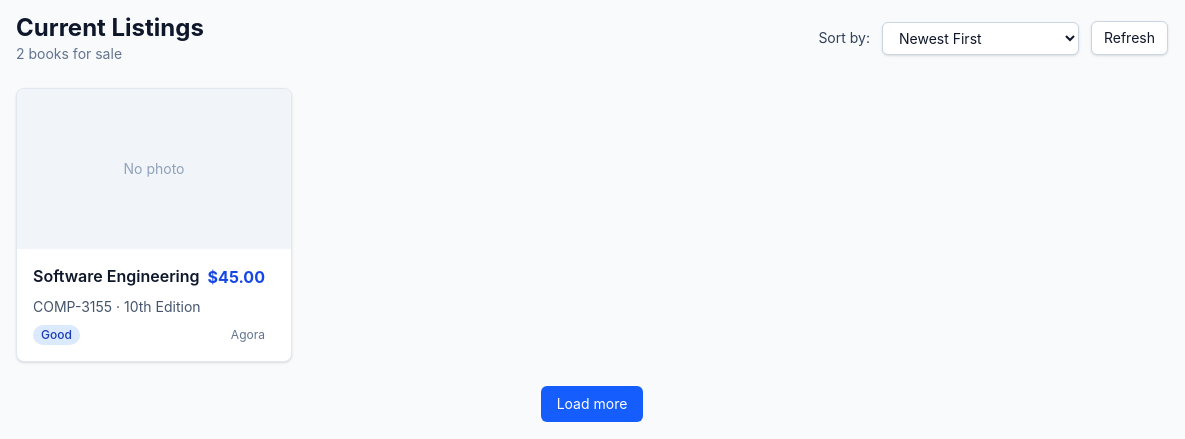
Test case: ListingsView Component › loads the next page when 'Load more' is clicked
Click the button "Load more" at (592, 404), box left=541, top=386, right=643, bottom=422
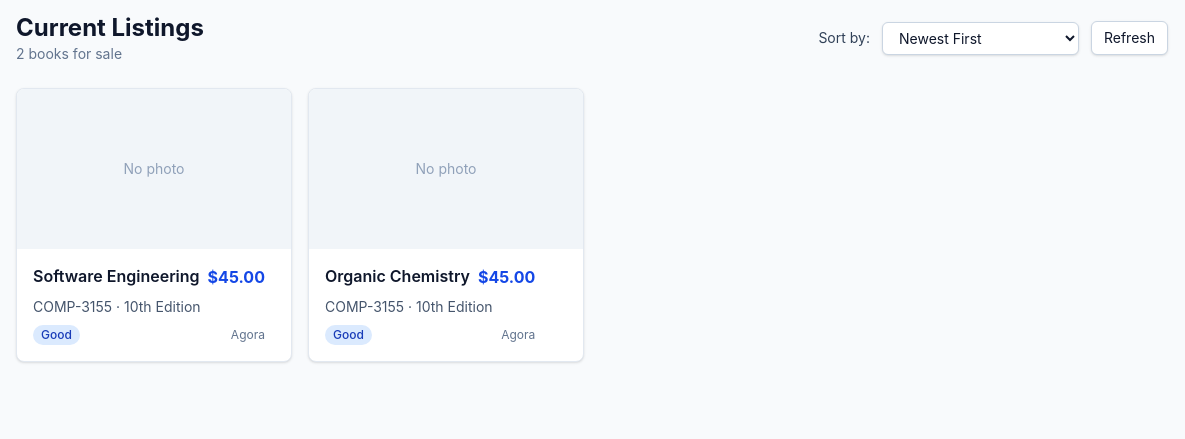
Expected: the heading "Organic Chemistry" is shown, left=325, top=265, right=470, bottom=287
Expected: the button "Load more" is gone
